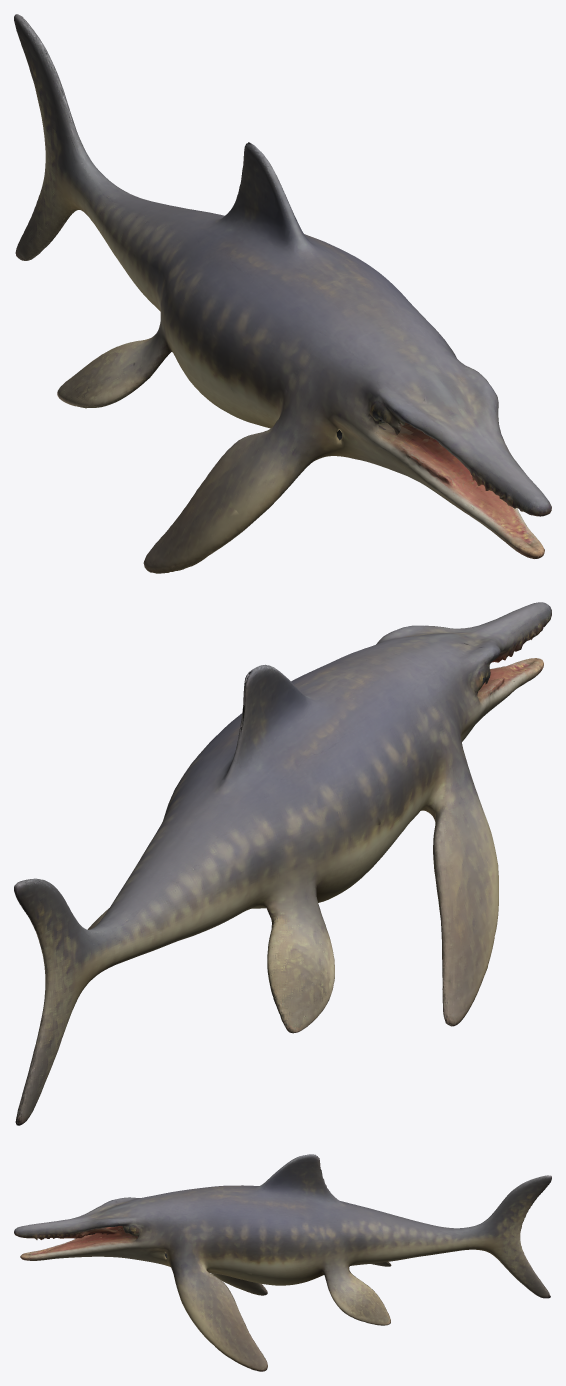
3 renders of one model, top to bottom at view 1: azimuth 30°, elevation 25°; view 2: azimuth 150°, elevation 25°; view 3: azimuth 270°, elevation 25°, orthographic. The views are drawn at different scales.
Parts seen in each view (by area): view 1: world; view 2: world; view 3: world.
Boxes of the visible parts, <box> form: world: <box>14,14,551,573</box>; world: <box>14,602,551,1125</box>; world: <box>14,1154,551,1371</box>.
Size of the model in its own units: 2.33 by 2.51 by 6.83.
1 material, 1 textured.
